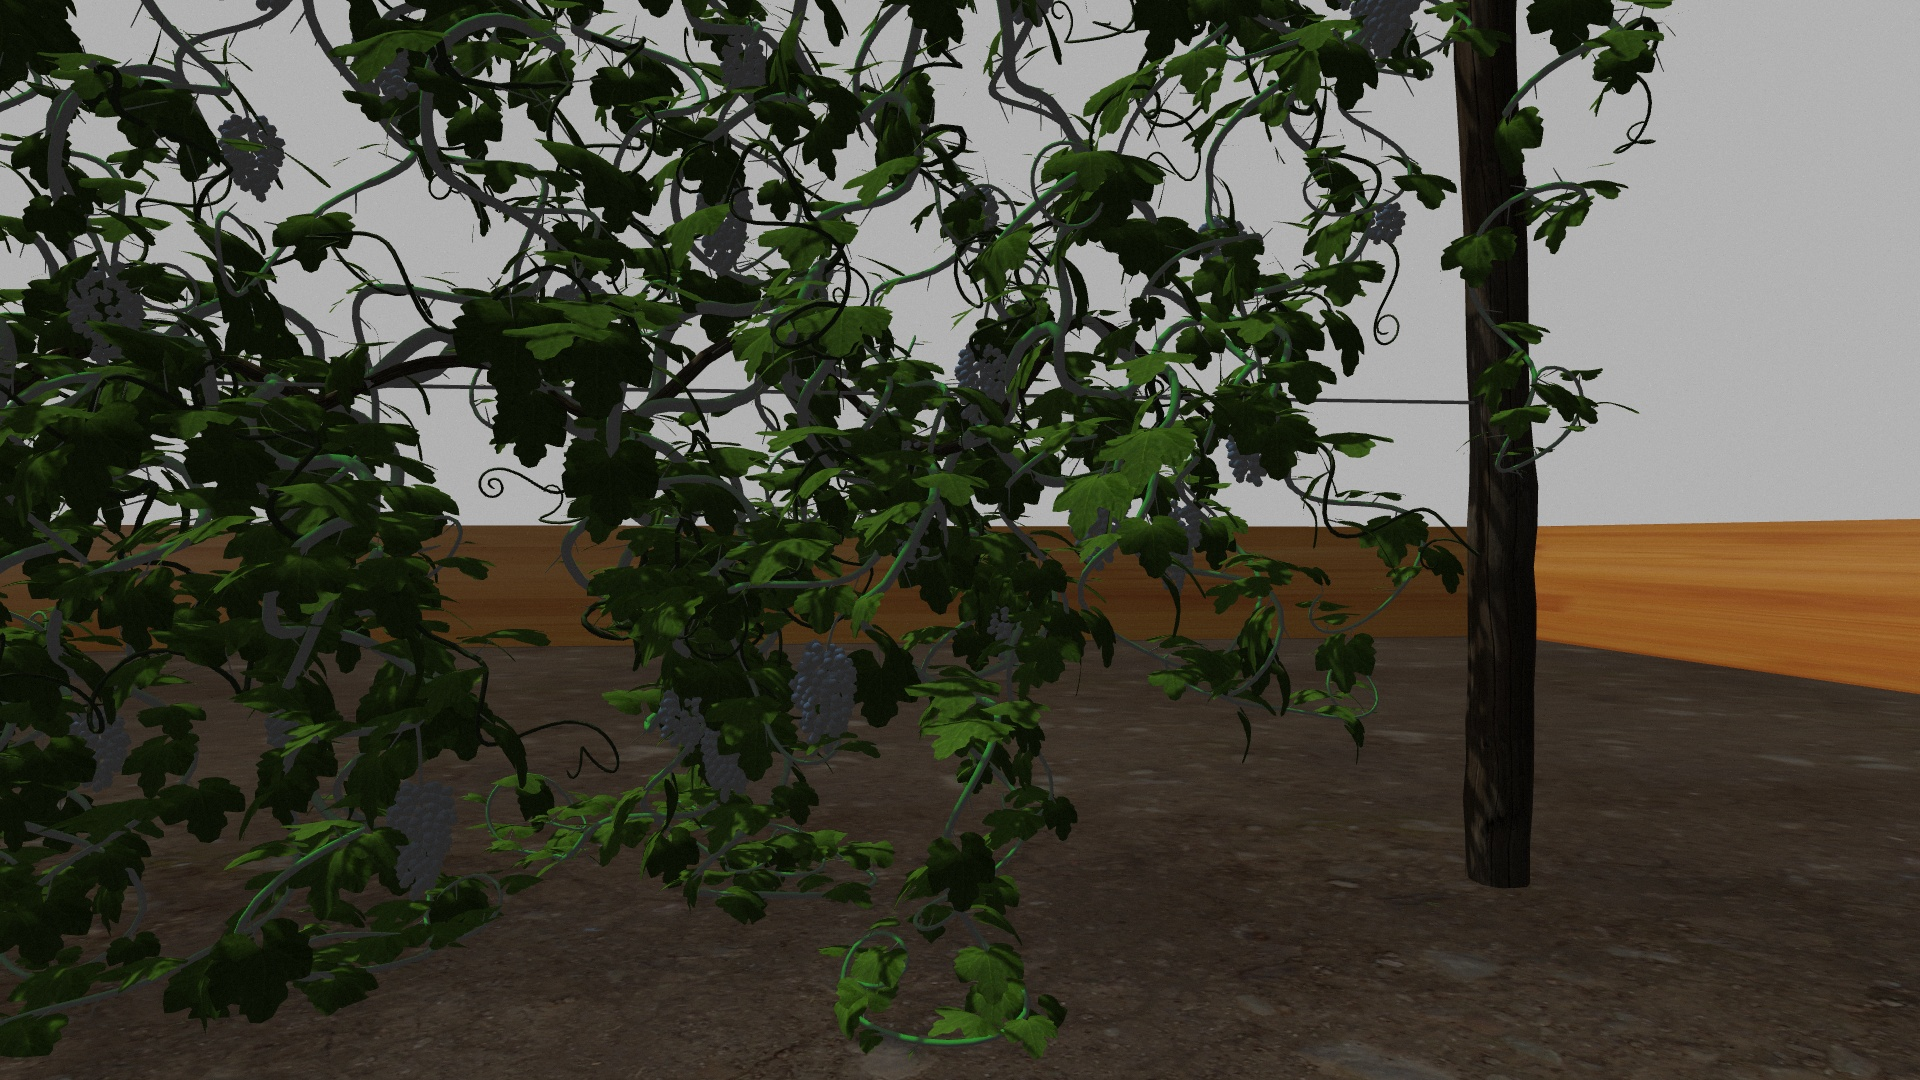grape: (384, 781, 462, 899), (791, 641, 860, 756), (214, 117, 289, 204), (952, 328, 1015, 425), (65, 705, 135, 793), (71, 278, 142, 359), (698, 711, 756, 804), (698, 179, 752, 276), (655, 674, 709, 752), (1356, 5, 1422, 57), (719, 40, 771, 90), (1369, 200, 1406, 247)
